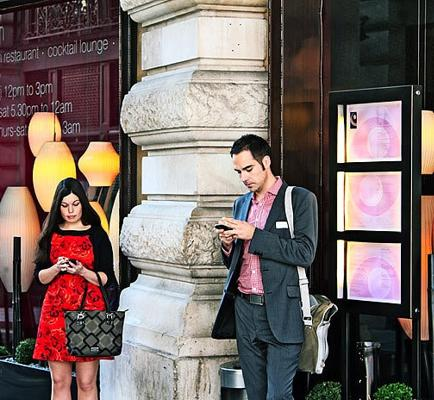person: (216, 133, 317, 400)
